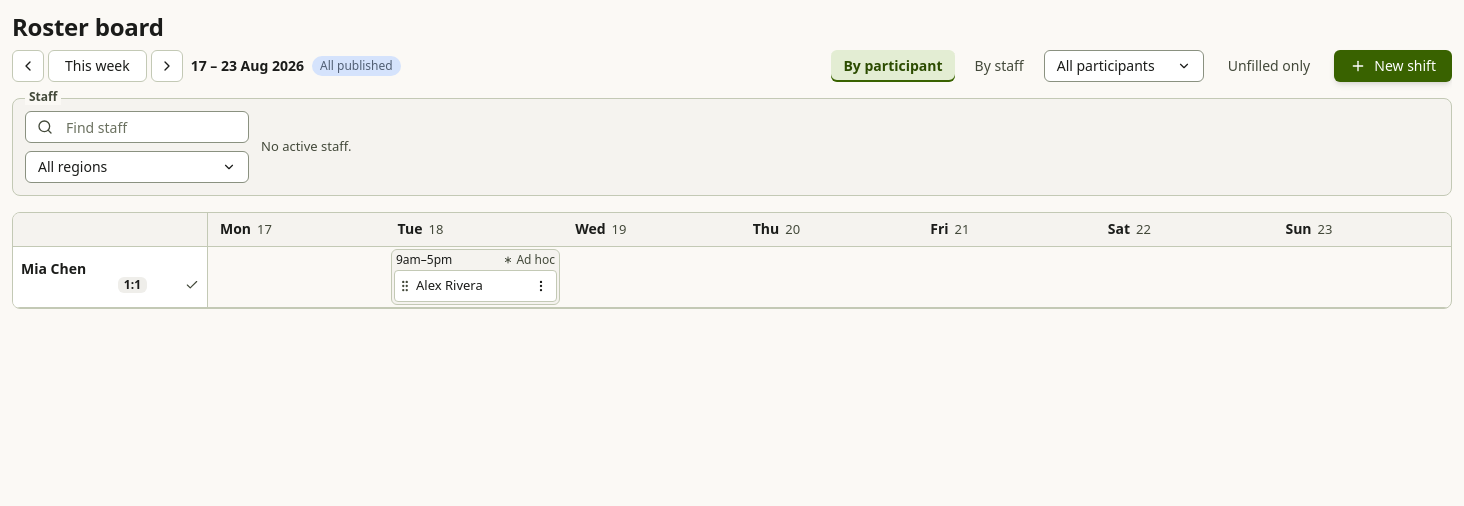
Test: RosterBoardPage — an assign the server refuses is no longer swallowed › falls back to the generic line for a network failure with no response
Click the button named "Actions for Mia Chen's shift": (541, 286) [529,274,553,298]
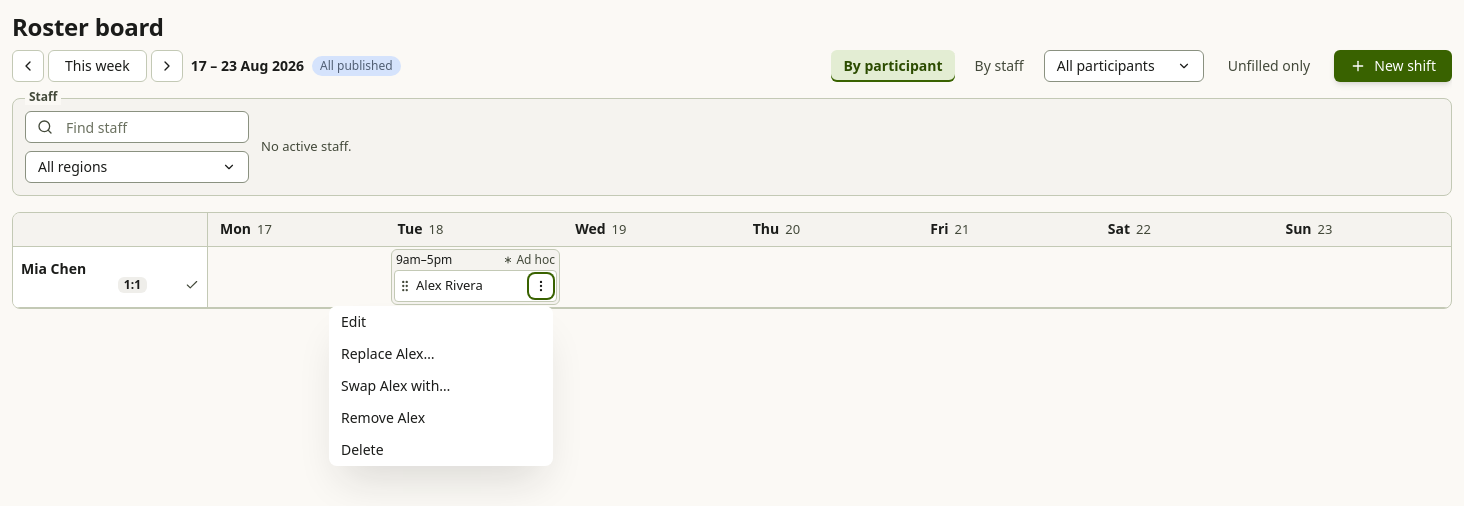
Click the option "Remove Alex": (383, 417) [341,408,425,426]
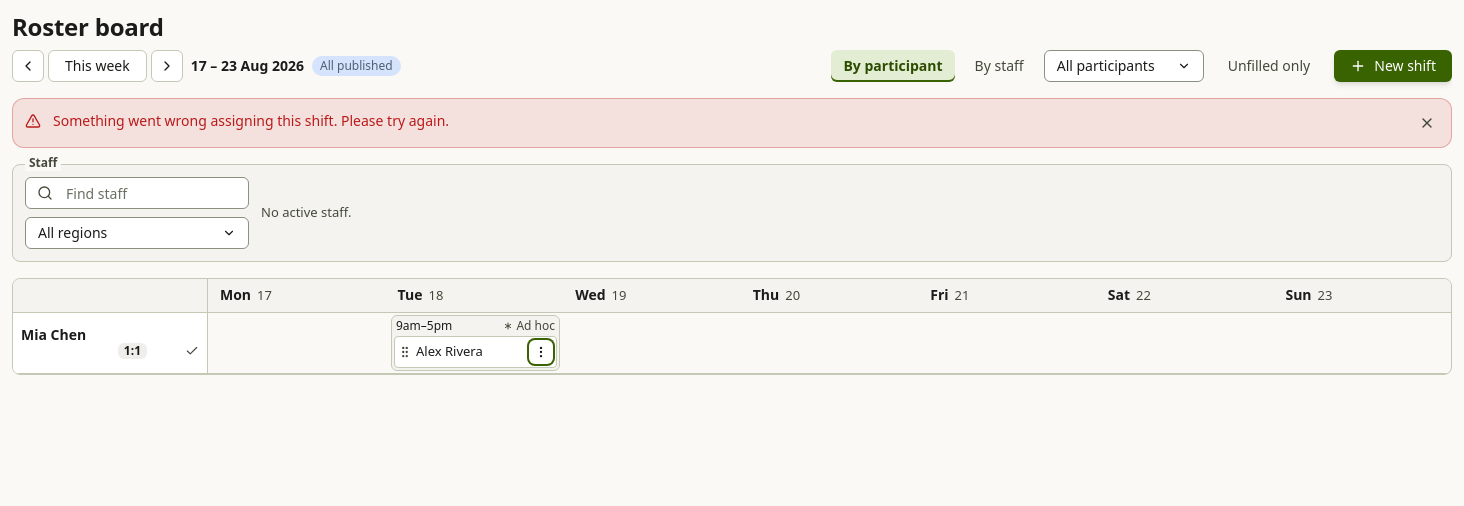
Result: the text "Something went wrong assigning this shift. Please try again." is shown at [53,111,449,130]
